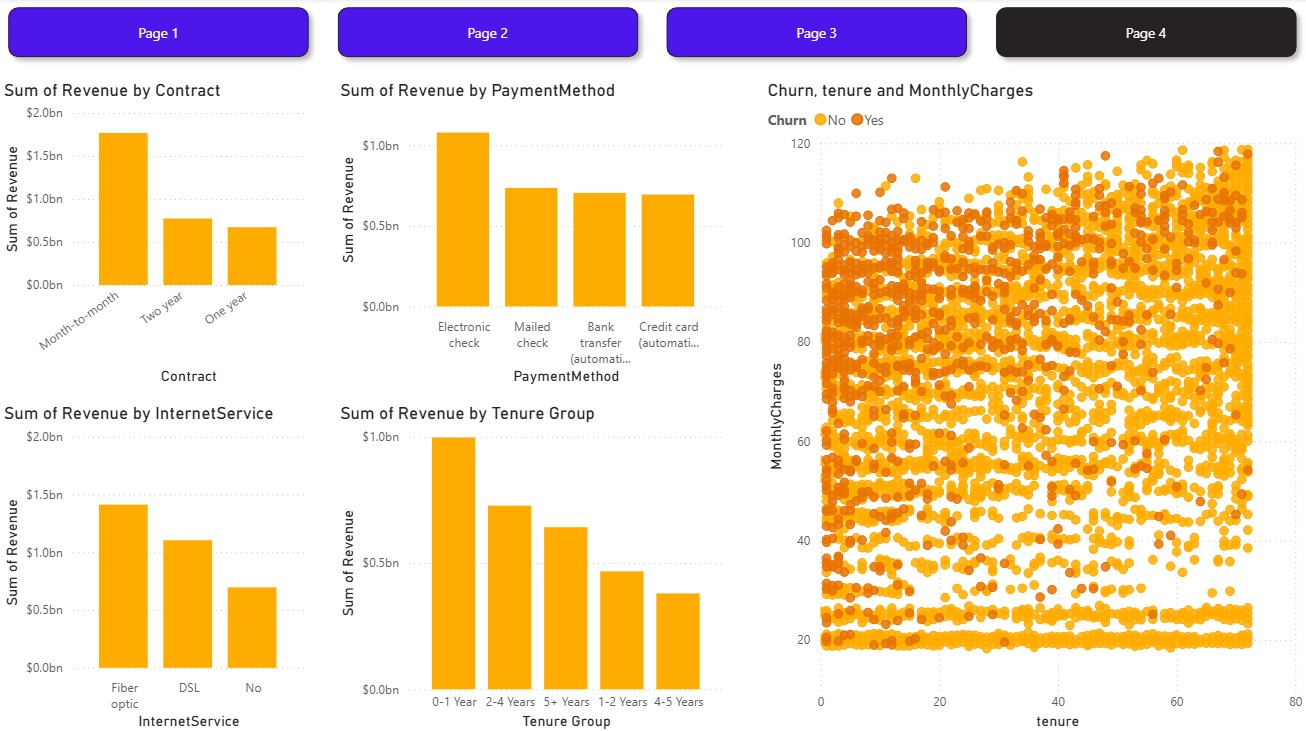

The dashboard page shown, as its layout file describes it:
{"tool":"powerbi","page":{"name":"Page 4","canvas":[1280,720],"ordinal":3},"visuals":[{"type":"columnChart","fields":{"Category":["Customer.Contract"],"Y":["Sum(Customer.Revenue)"]},"box":[0,79.5,304.5,303.3],"z":0},{"type":"columnChart","fields":{"Category":["Customer.InternetService"],"Y":["Sum(Customer.Revenue)"]},"box":[0,396.2,304.5,324.1],"z":1000},{"type":"columnChart","fields":{"Category":["Customer.PaymentMethod"],"Y":["Sum(Customer.Revenue)"]},"box":[328.9,79.5,385.2,303.3],"z":2000},{"type":"columnChart","fields":{"Category":["Customer.Tenure Group"],"Y":["Sum(Customer.Revenue)"]},"box":[328.9,396.2,385.2,324.1],"z":3000},{"type":"scatterChart","fields":{"X":["Customer.tenure"],"Y":["Customer.MonthlyCharges"],"Series":["Customer.Churn"]},"box":[747.2,79.5,533.2,640.8],"z":4000},{"type":"pageNavigator","box":[0,0,1280.3,67.3],"z":5000}]}

Visuals, with their boxes in screenshot pixels (x1, y1, x2, y2), scaled from the page's 1280x720 canvas onto the 1306x731 screenshot:
columnChart - Customer.Contract x Sum(Customer.Revenue): bbox=[0, 81, 311, 389]
columnChart - Customer.InternetService x Sum(Customer.Revenue): bbox=[0, 402, 311, 730]
columnChart - Customer.PaymentMethod x Sum(Customer.Revenue): bbox=[336, 81, 729, 389]
columnChart - Customer.Tenure Group x Sum(Customer.Revenue): bbox=[336, 402, 729, 730]
scatterChart - Customer.tenure x Customer.MonthlyCharges: bbox=[762, 81, 1305, 730]
pageNavigator: bbox=[0, 0, 1305, 68]
